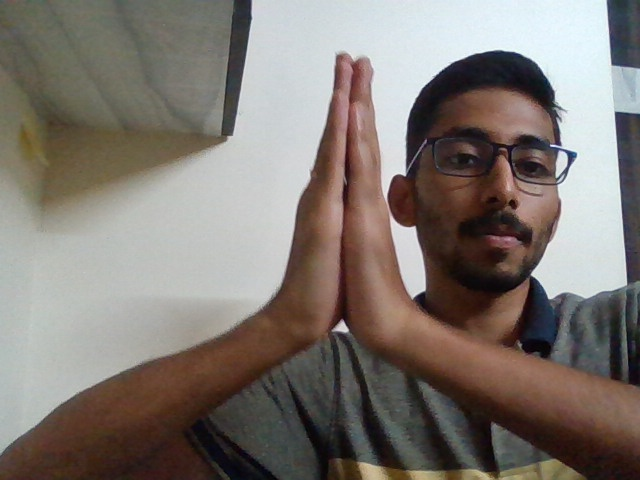Thank You: (245, 29, 440, 396)
